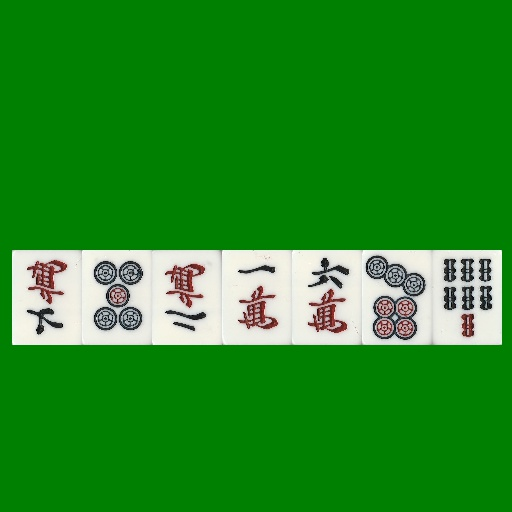1m: (222, 250, 292, 345)
2m: (152, 250, 222, 345)
5p: (82, 250, 152, 345)
6m: (292, 250, 362, 345)
7m: (12, 250, 82, 345)
7p: (362, 250, 432, 345)
7s: (432, 250, 502, 345)
